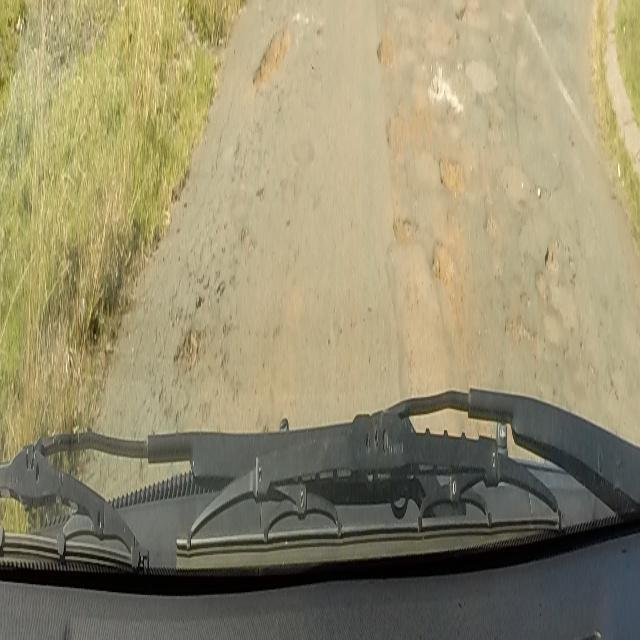pothole: (383, 113, 471, 289), (168, 261, 250, 404), (248, 16, 290, 96)
